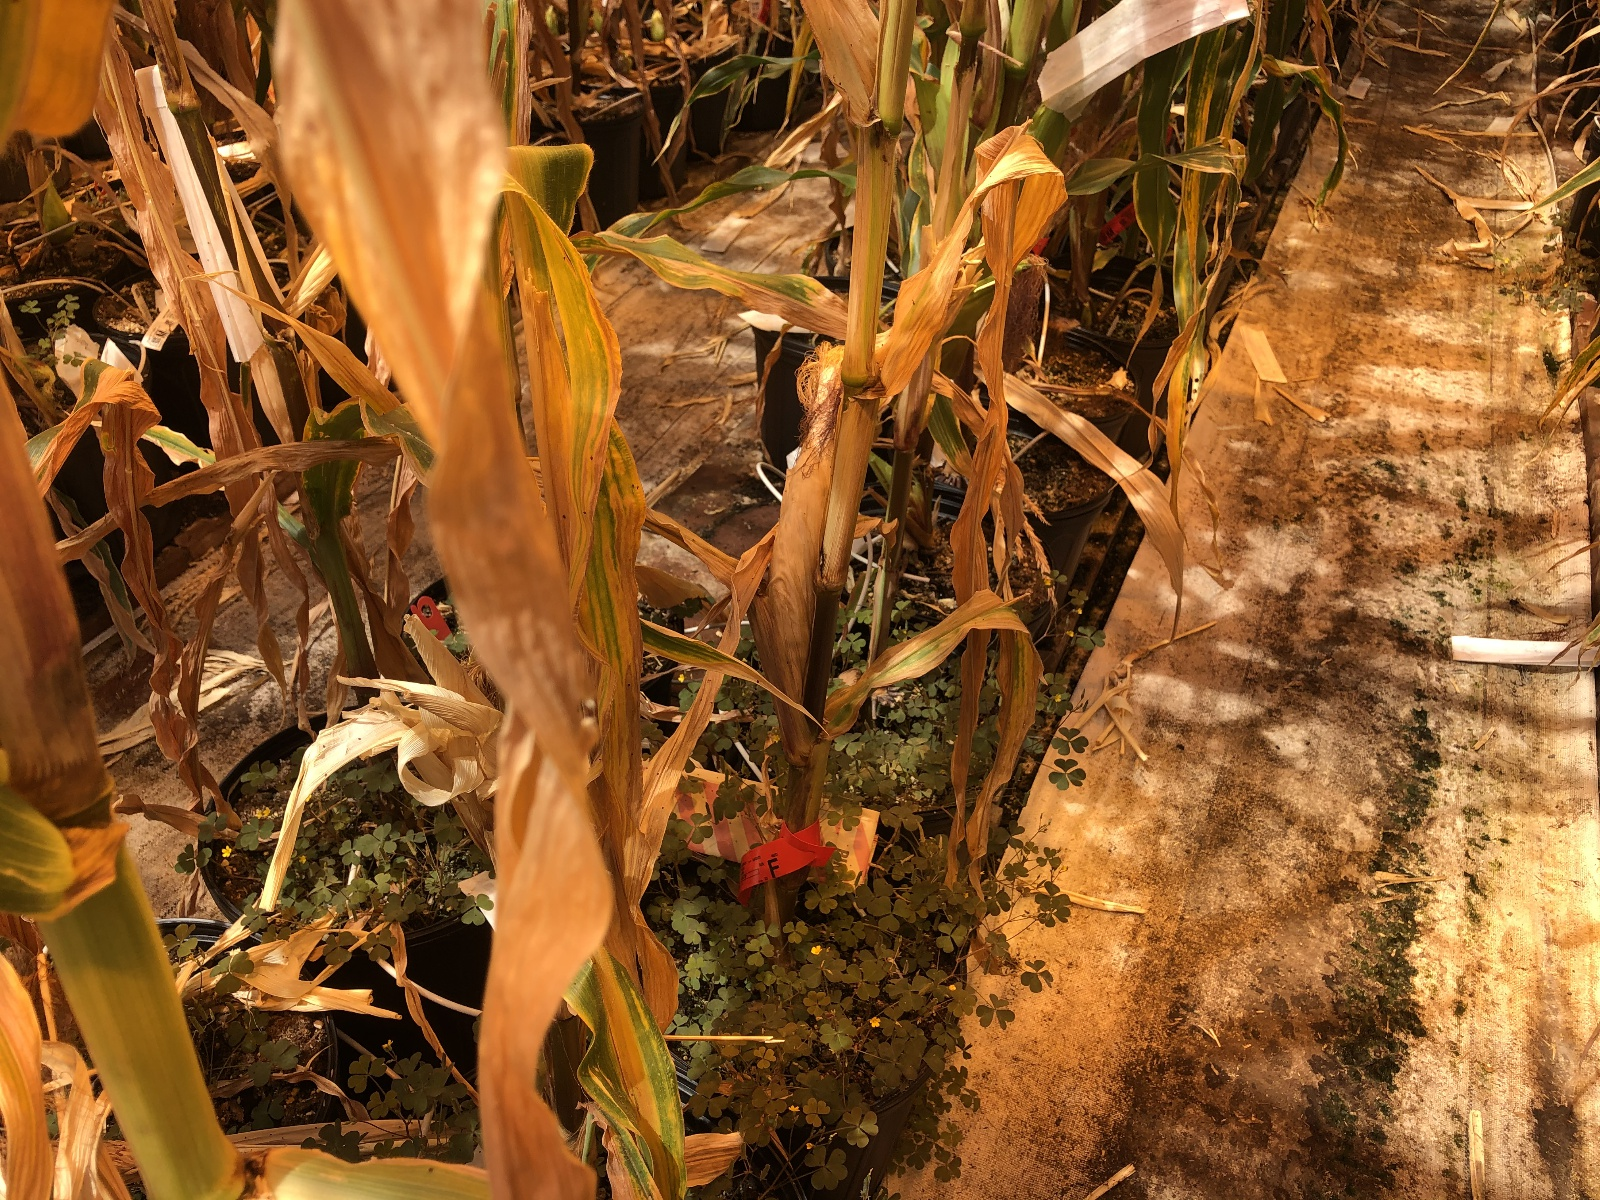ear: (758, 342, 842, 667)
